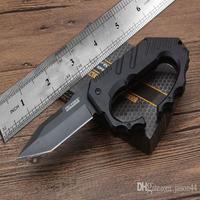knife: (13, 34, 191, 162)
